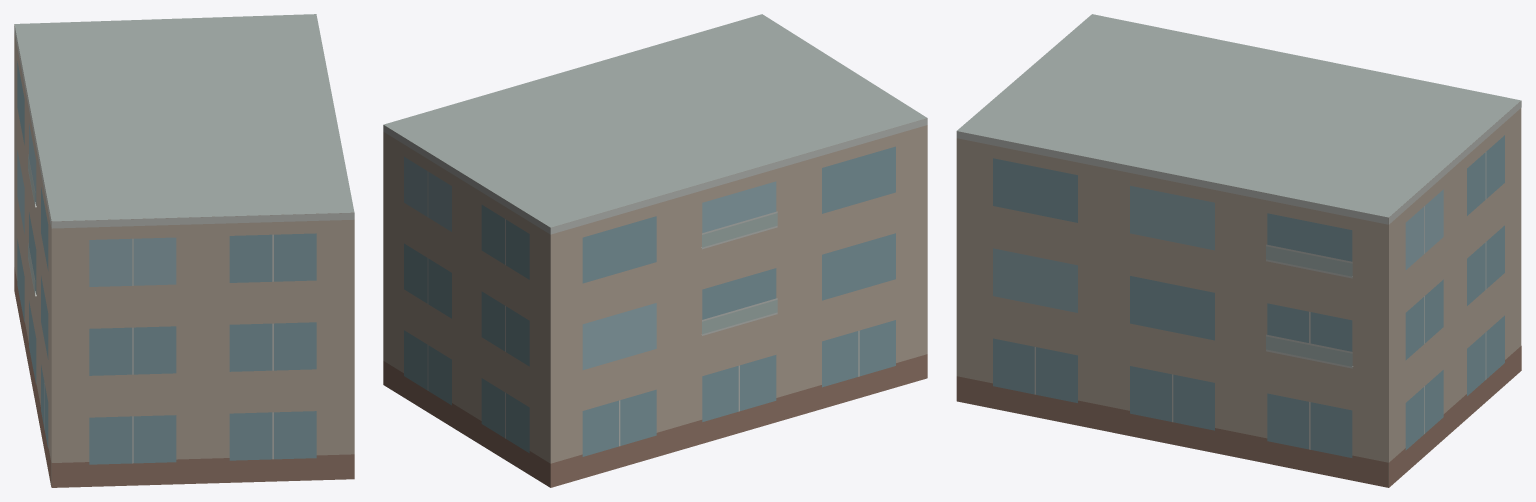
File: survey-upis-32697220.glb
3 renders of one model, left to right at view 1: azimuth 30°, elevation 25°; view 2: azimuth 150°, elevation 25°; view 3: azimuth 270°, elevation 25°, orthographic. The views are drawn at different scales.
Parts seen in each view (by area): view 1: survey-upis-32697220.tmp; view 2: survey-upis-32697220.tmp; view 3: survey-upis-32697220.tmp.
Boxes of the visible parts, x1=… form: survey-upis-32697220.tmp: x1=14, y1=14, x2=354, y2=487; survey-upis-32697220.tmp: x1=383, y1=14, x2=927, y2=487; survey-upis-32697220.tmp: x1=956, y1=14, x2=1521, y2=487.
Bounding box in the file's own units: 14.79 × 9.15 × 17.34.
